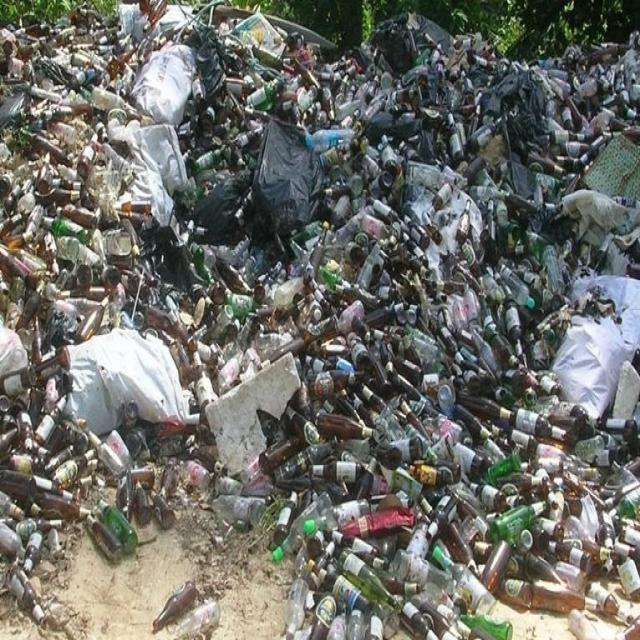Plastics: (6, 11, 640, 640)
